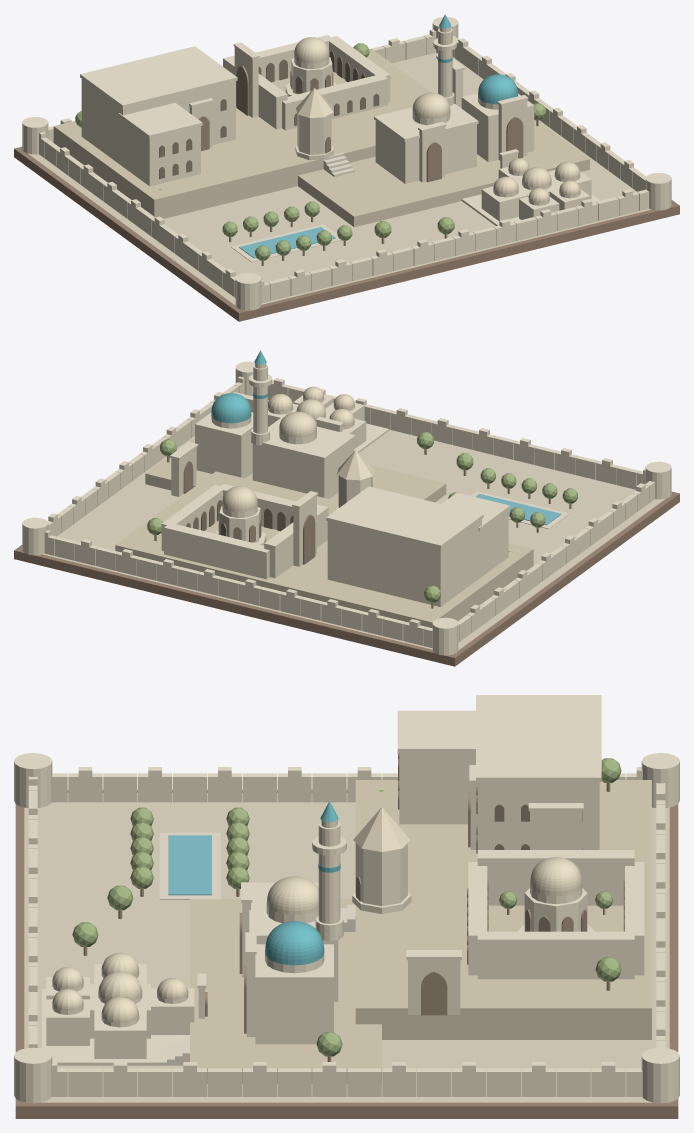
Rendered from shirvanshahs-restored.glb.
3 views of the same model, one above another, from view 1: azimuth 30°, elevation 25°; view 2: azimuth 150°, elevation 25°; view 3: azimuth 270°, elevation 25° (orthographic). The views are drawn at different scales.
Visible parts, largest first — view 1: stone_rs, terrace, ground, base, dome, tree, niche, window, path, tile, water; view 2: stone_rs, ground, terrace, base, dome, tree, niche, tile, window, water; view 3: stone_rs, terrace, ground, base, dome, tree, path, water, niche, tile, window.
Part boxes in pixels (x1,y1,x2,y2): stone_rs: [22, 17, 671, 310]; terrace: [53, 48, 589, 227]; ground: [28, 53, 651, 305]; base: [14, 146, 679, 321]; dome: [294, 37, 580, 202]; tree: [75, 43, 545, 260]; niche: [198, 66, 523, 182]; window: [159, 51, 379, 178]; path: [231, 152, 559, 262]; tile: [437, 14, 517, 104]; water: [239, 227, 335, 258]; stone_rs: [22, 361, 671, 655]; ground: [42, 400, 665, 650]; terrace: [115, 437, 533, 628]; base: [14, 491, 679, 666]; dome: [222, 386, 374, 512]; tree: [147, 432, 577, 602]; niche: [183, 461, 315, 564]; tile: [211, 350, 267, 423]; window: [186, 500, 293, 531]; water: [475, 494, 561, 525]; stone_rs: [14, 695, 679, 1103]; terrace: [190, 780, 651, 1083]; ground: [24, 793, 669, 1102]; base: [15, 789, 678, 1118]; dome: [52, 807, 582, 1023]; tree: [72, 758, 621, 1056]; path: [159, 832, 355, 1065]; water: [168, 835, 211, 895]; niche: [205, 792, 586, 1033]; tile: [265, 801, 340, 965]; window: [398, 754, 624, 964].
Bounding box in the file's own units: 0.688 × 0.2288 × 0.6112.
